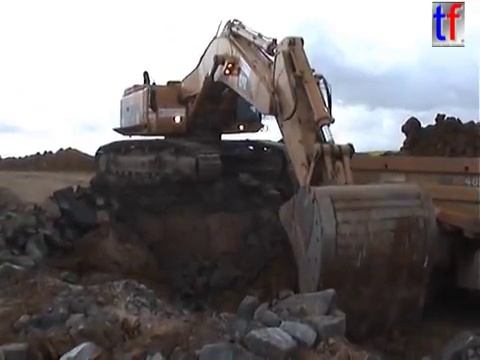excavator: (90, 16, 442, 337)
truck: (277, 148, 480, 319)
